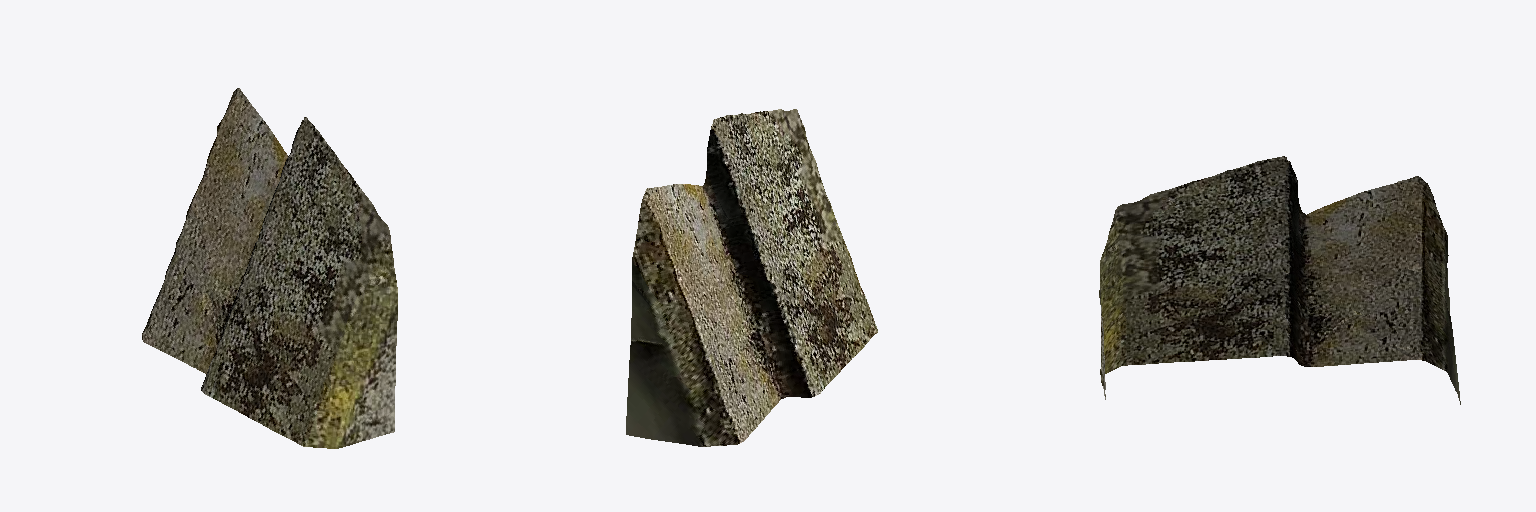
3 views of the same model, side by side, from view 1: azimuth 30°, elevation 25°; view 2: azimuth 150°, elevation 25°; view 3: azimuth 270°, elevation 25° (orthographic).
Size of the model in its own units: 0.1414 by 0.3263 by 0.427.
Materials: 2 (1 with a texture image).